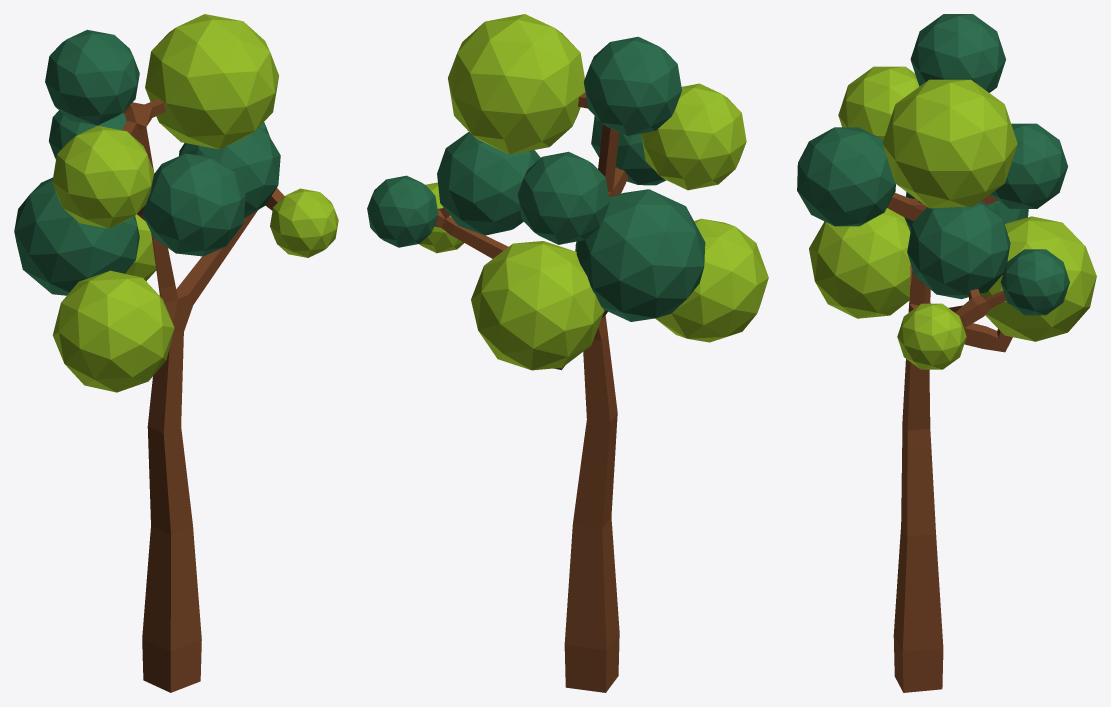
Rendered from CastanhaPara.gltf.
The picture shows the model from 3 angles, left to right: view 1: azimuth 30°, elevation 25°; view 2: azimuth 150°, elevation 25°; view 3: azimuth 270°, elevation 25°; orthographic projection. The views are drawn at different scales.
Parts seen in each view (by area): view 1: Icosphere.015; view 2: Icosphere.015; view 3: Icosphere.015.
Part boxes in pixels (box(x1,y1,x2,y2)): Icosphere.015: box(14, 14, 338, 692); Icosphere.015: box(367, 14, 768, 692); Icosphere.015: box(797, 14, 1096, 692).
Bounding box in the file's own units: 2.16 × 4.4 × 1.87.
